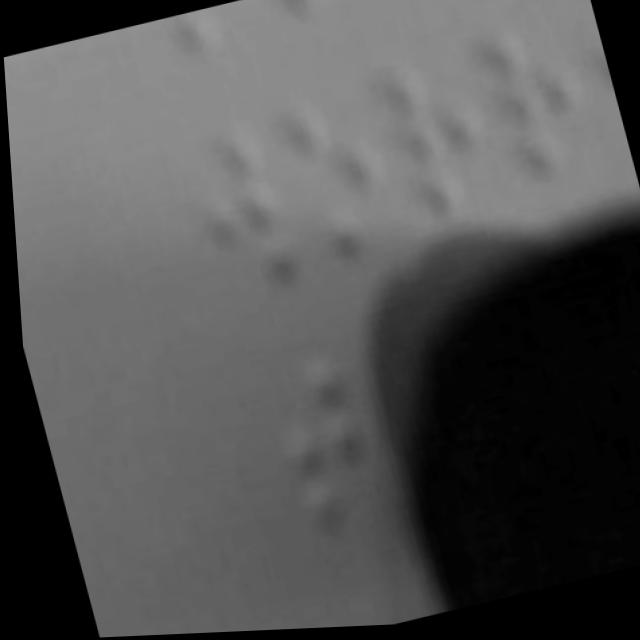braiile: (461, 5, 612, 220), (168, 102, 311, 323), (264, 74, 412, 281), (253, 323, 391, 540), (370, 47, 508, 258)
